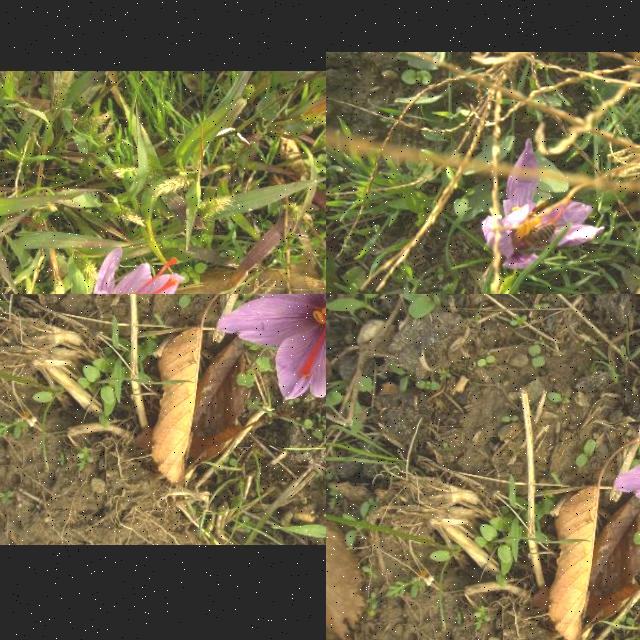flower: (481, 139, 605, 271), (215, 294, 326, 401), (78, 247, 188, 294)
